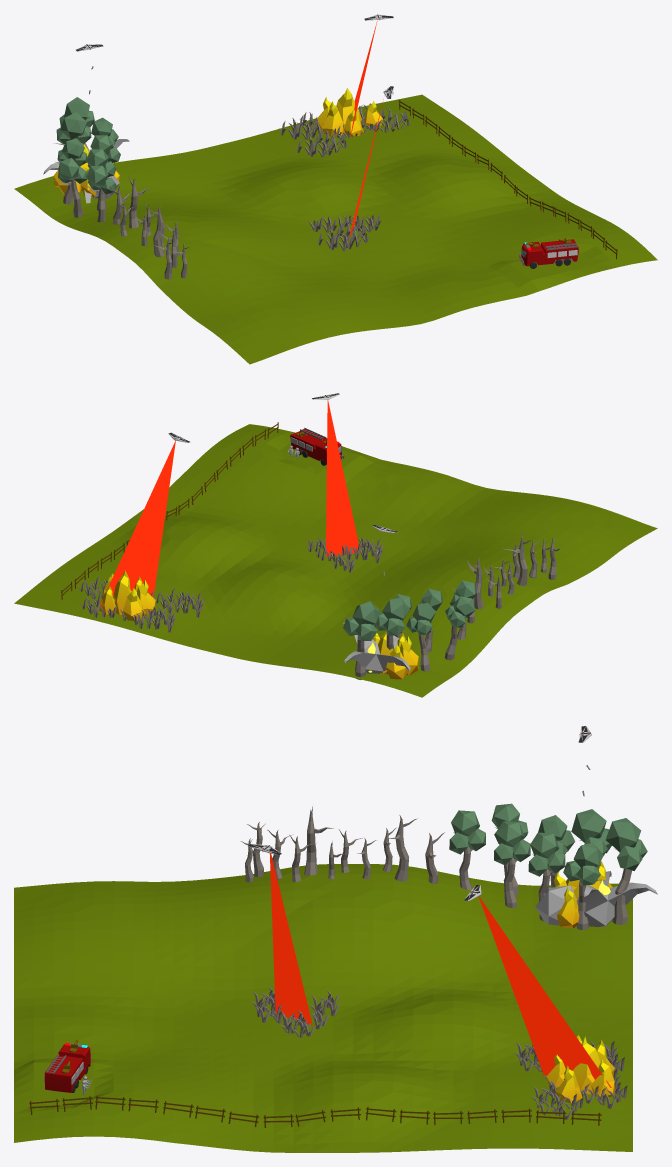
Rendered from Recongoals Firefighting.fbx.
3 views of the same model, one above another, from view 1: azimuth 30°, elevation 25°; view 2: azimuth 150°, elevation 25°; view 3: azimuth 270°, elevation 25° (orthographic). The views are drawn at different scales.
Visible parts, largest first — view 1: Firefighting; view 2: Firefighting; view 3: Firefighting.
Part boxes in pixels (<box>): Firefighting: <box>14,14,657,364</box>; Firefighting: <box>14,393,657,697</box>; Firefighting: <box>14,726,657,1152</box>.
Size of the model in its own units: 57.64 by 20.65 by 59.46.
